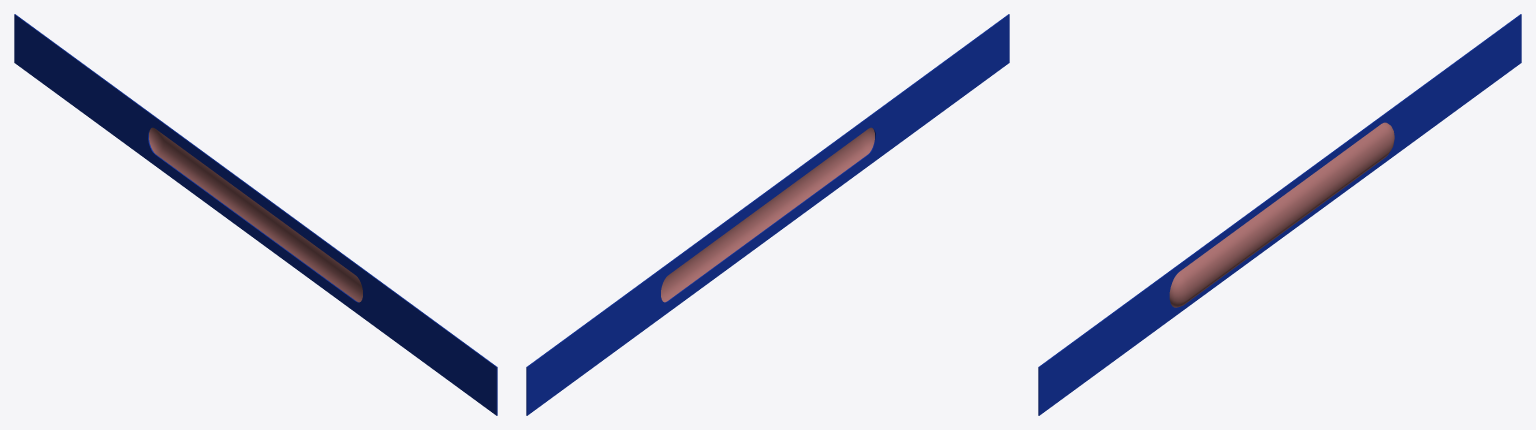
Rendered from 5x90Concave Win.FBX.
The picture shows the model from 3 angles, left to right: view 1: azimuth 30°, elevation 25°; view 2: azimuth 150°, elevation 25°; view 3: azimuth 330°, elevation 25°; orthographic projection.
Parts seen in each view (by area): view 1: Box063; view 2: Box063; view 3: Box063.
Boxes of the visible parts, <box> form: Box063: <box>14,14,497,415</box>; Box063: <box>526,14,1009,415</box>; Box063: <box>1038,14,1521,415</box>.
Size of the model in its own units: 1.08 by 5 by 90.08.
